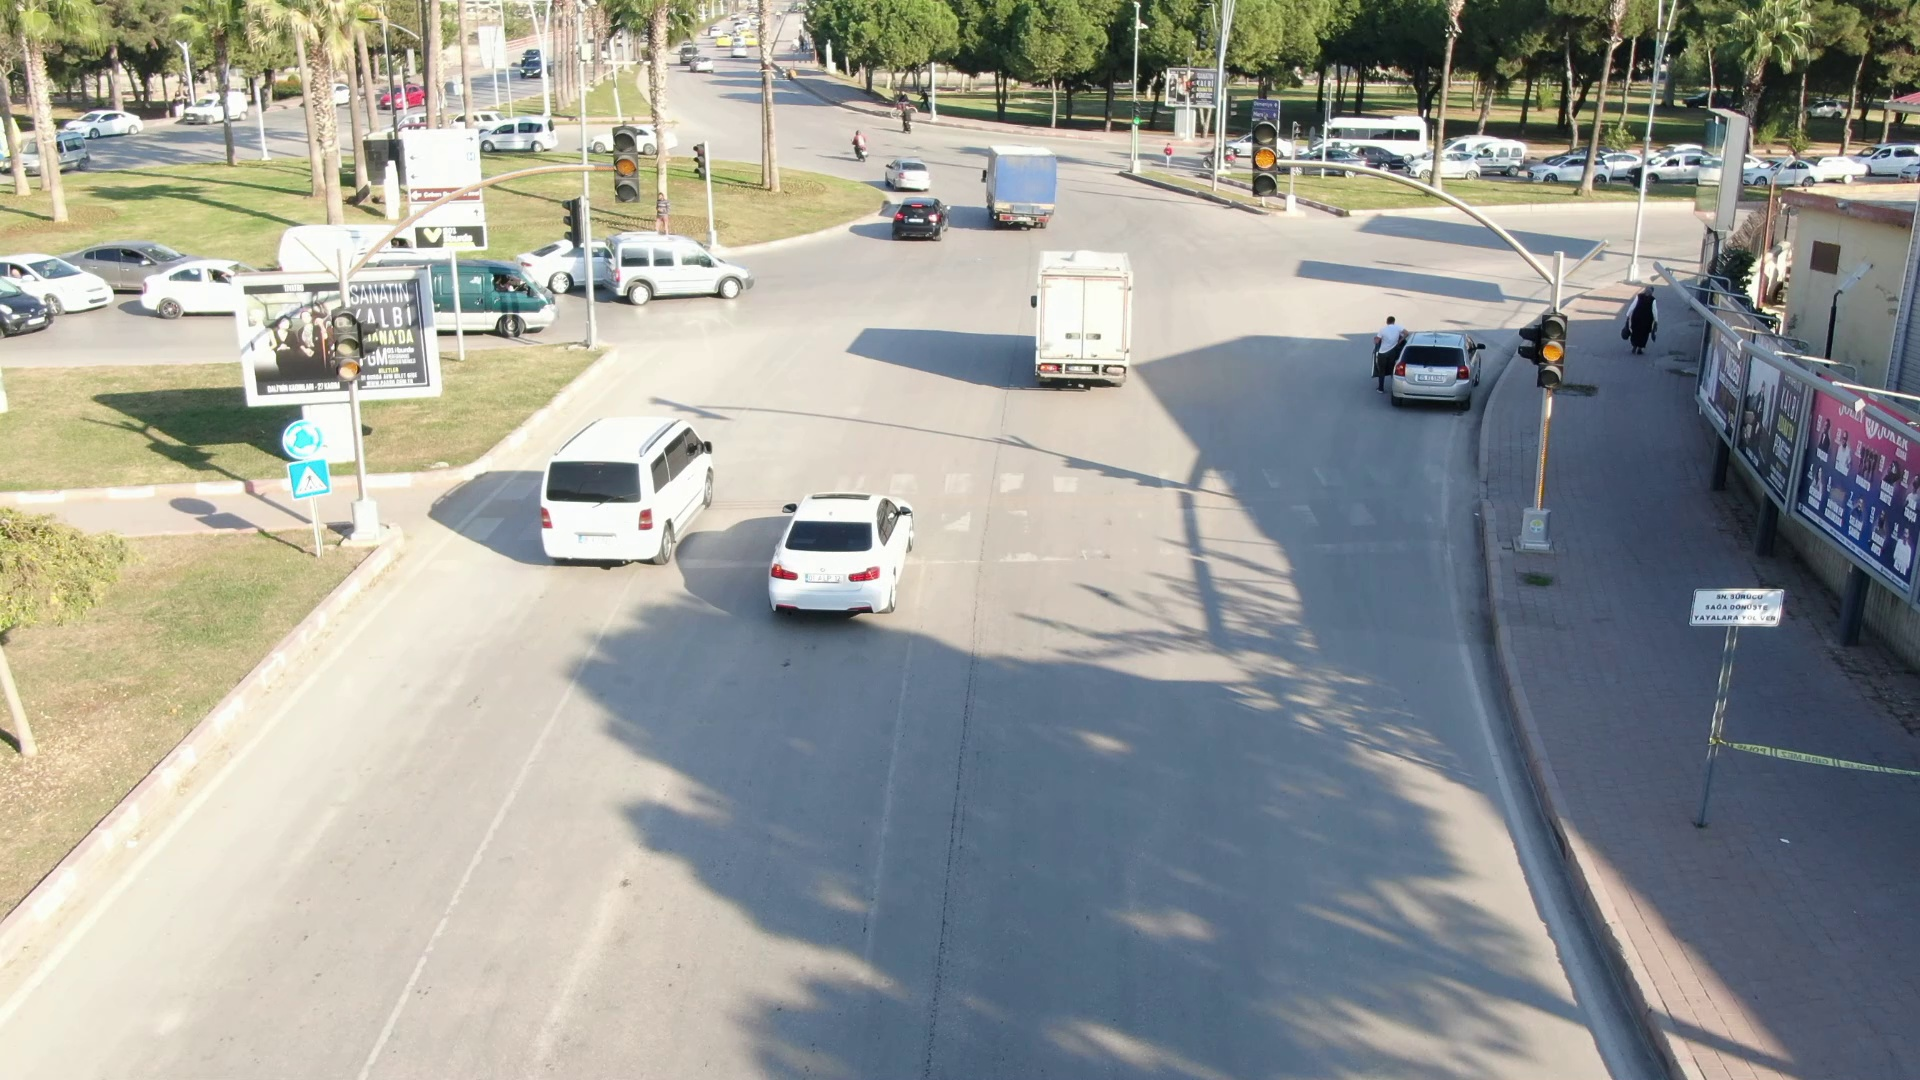car: (525, 391, 723, 577), (1016, 238, 1158, 402), (757, 488, 924, 620), (604, 227, 758, 316), (975, 129, 1067, 232), (1392, 325, 1488, 418), (878, 189, 966, 251)
person: (1366, 310, 1408, 402), (1621, 281, 1664, 359)
